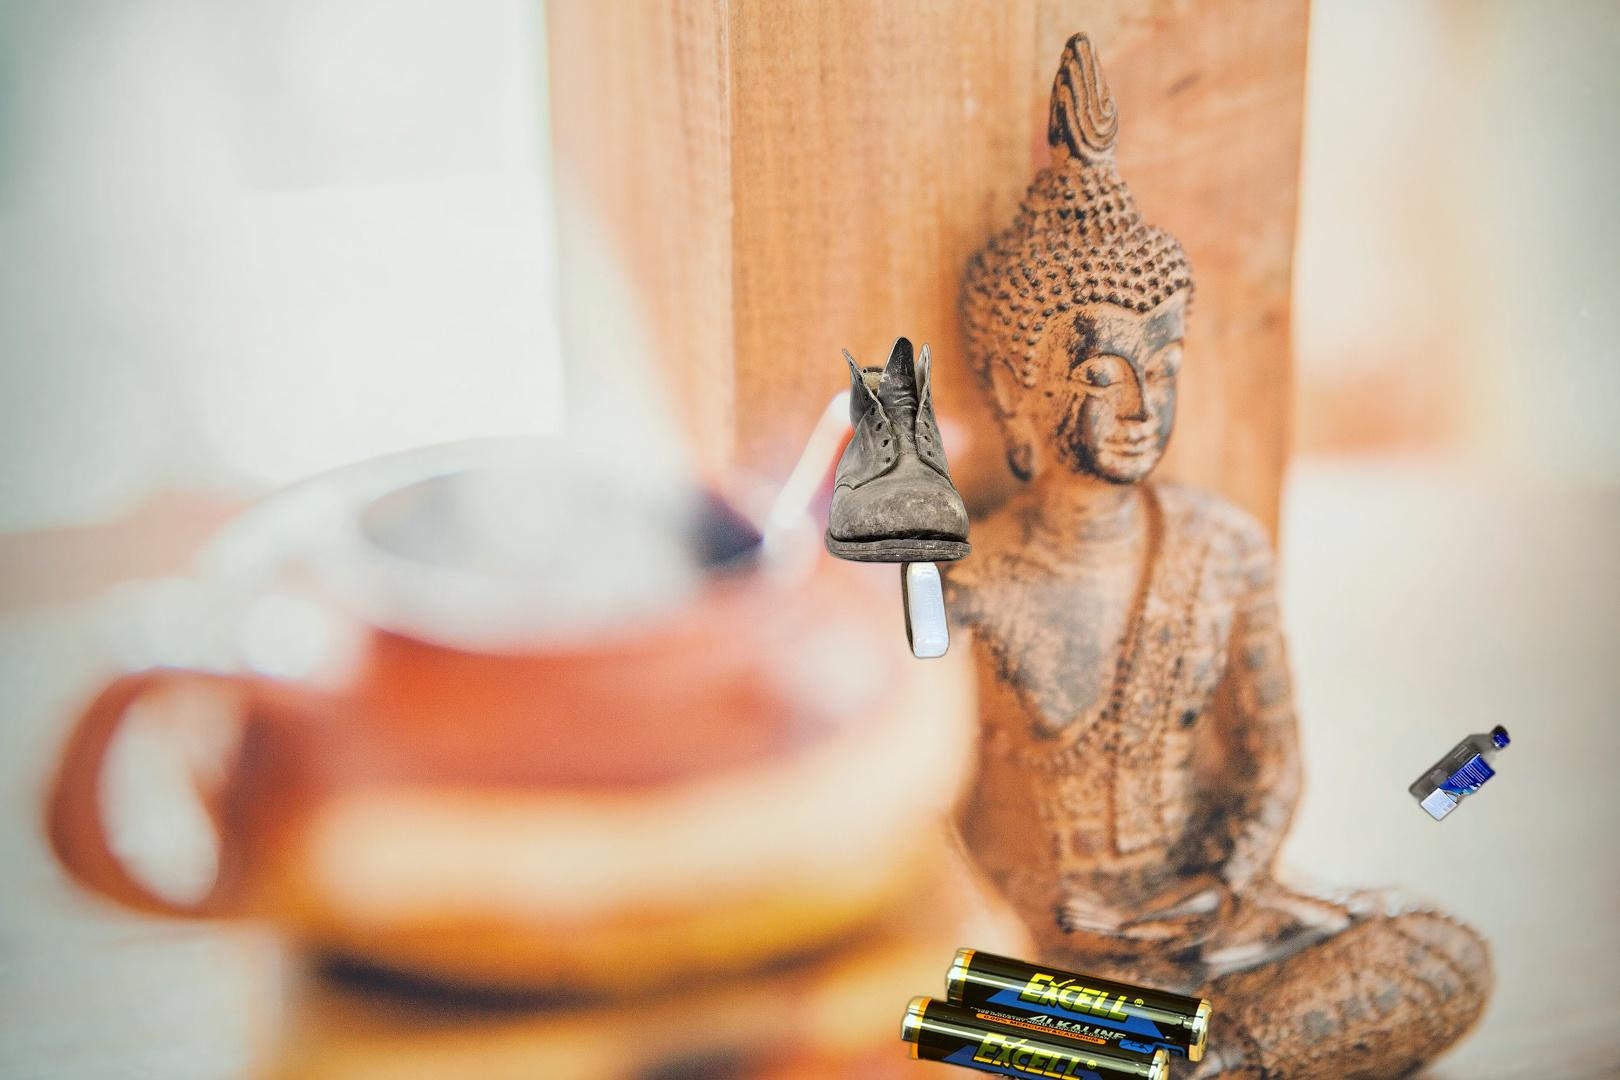battery: (894, 945, 1217, 1080)
paper-bag: (659, 1078, 857, 1080)
plastic-bottles: (1404, 720, 1515, 827), (896, 542, 953, 664)
shoes: (822, 334, 974, 565)
